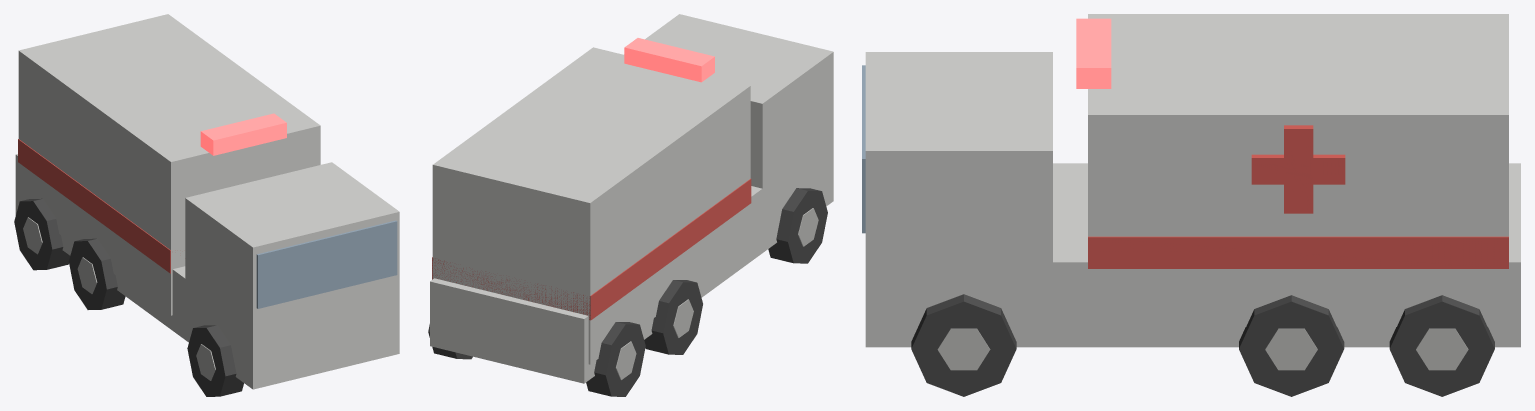
The model's file is ambulance.glb.
3 views of the same model, side by side, from view 1: azimuth 30°, elevation 25°; view 2: azimuth 150°, elevation 25°; view 3: azimuth 270°, elevation 25° (orthographic). The views are drawn at different scales.
Visible parts, largest first — view 1: ambulance; view 2: ambulance; view 3: ambulance.
Part boxes in pixels (<box>): ambulance: <box>14,14,399,396</box>; ambulance: <box>428,14,833,396</box>; ambulance: <box>862,14,1520,396</box>.
Bounding box in the file's own units: 2.32 × 2.8 × 5.63.
